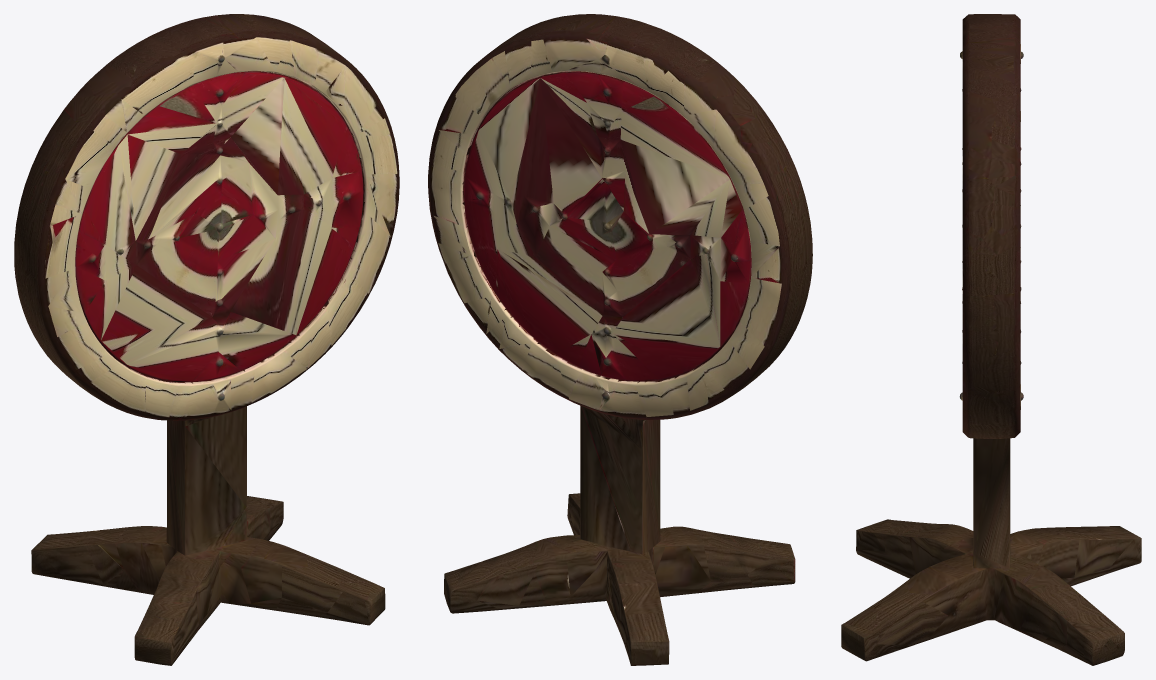
Rendered from practice_target.glb.
3 views of the same model, side by side, from view 1: azimuth 30°, elevation 25°; view 2: azimuth 150°, elevation 25°; view 3: azimuth 270°, elevation 25° (orthographic).
Parts seen in each view (by area): view 1: body; view 2: body; view 3: body.
Boxes of the visible parts, x1,y1,x2,y2 form: body: (14, 14, 399, 665); body: (428, 14, 812, 665); body: (841, 14, 1141, 665).
Size of the model in its own units: 1.01 by 1.5 by 0.7156.
Materials: 1 (1 with a texture image).
